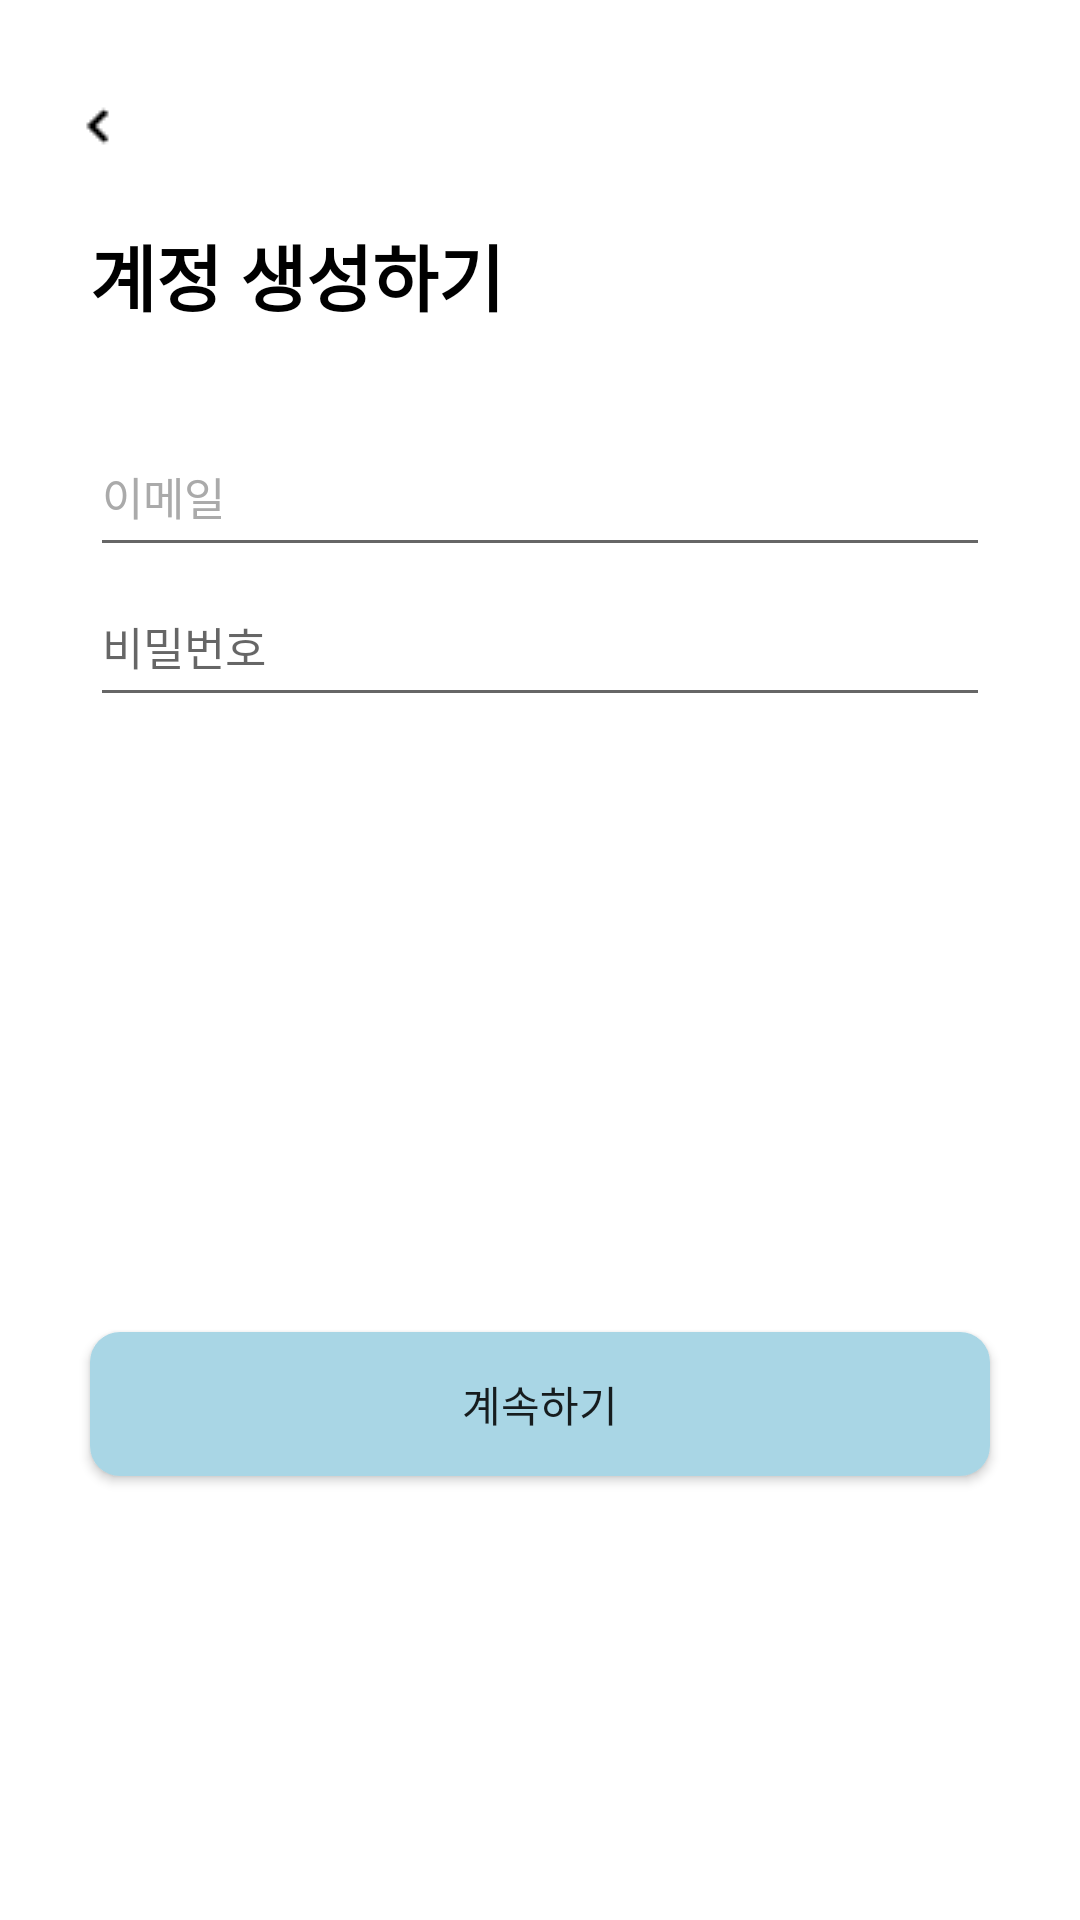

Screen size 1080 × 1920. Icon name, then its box in pixels as [x1,y1,x2,y2]:
back: [86,108,109,144]
